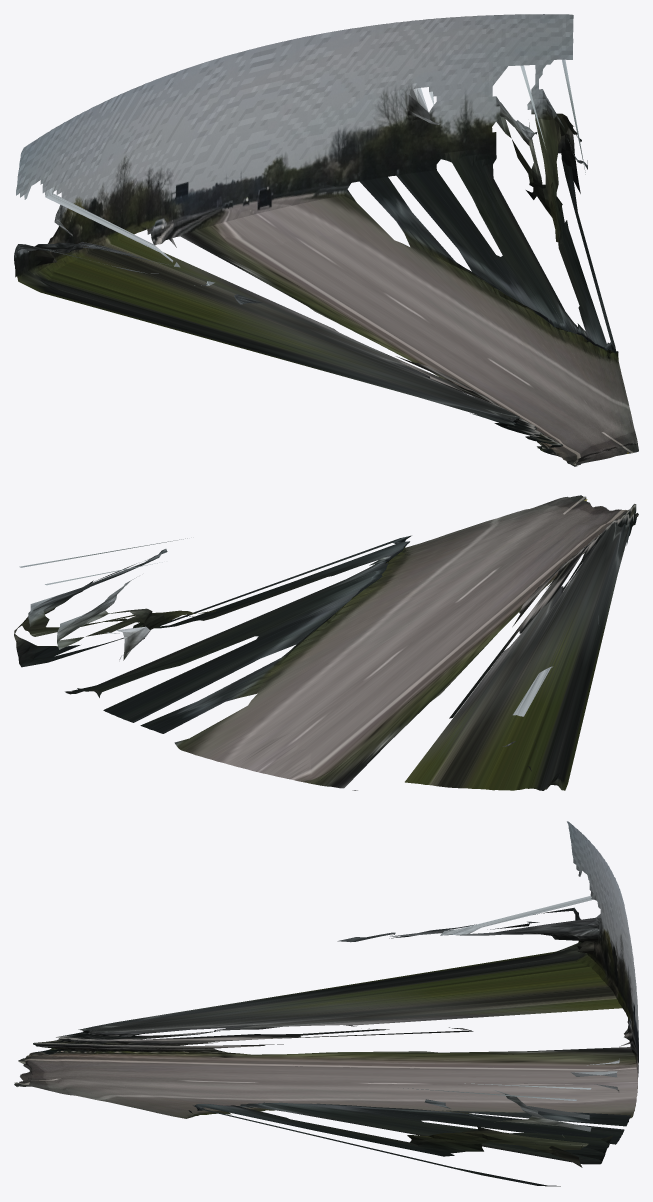
3 renders of one model, top to bottom at view 1: azimuth 30°, elevation 25°; view 2: azimuth 150°, elevation 25°; view 3: azimuth 270°, elevation 25°, orthographic. The views are drawn at different scales.
Visible parts, largest first — view 1: defaultobject; view 2: defaultobject; view 3: defaultobject.
Boxes of the visible parts, bbox=[...] form: defaultobject: bbox=[14, 14, 638, 466]; defaultobject: bbox=[14, 495, 638, 790]; defaultobject: bbox=[14, 821, 638, 1186].
Size of the model in its own units: 41 by 12.39 by 44.82.
1 material, 1 textured.
